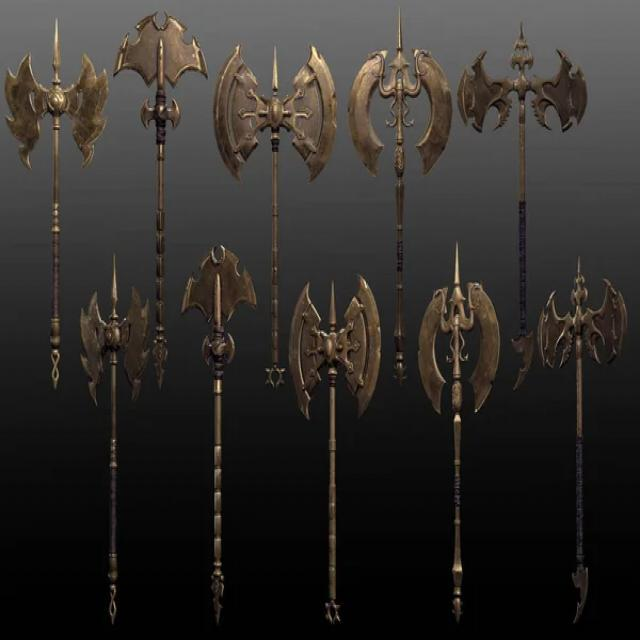axe: (457, 25, 593, 350), (214, 41, 340, 385), (7, 18, 112, 396), (350, 10, 453, 384), (114, 11, 212, 391), (290, 273, 382, 623), (538, 272, 629, 622), (181, 243, 257, 622), (421, 281, 502, 619), (73, 270, 152, 616)
